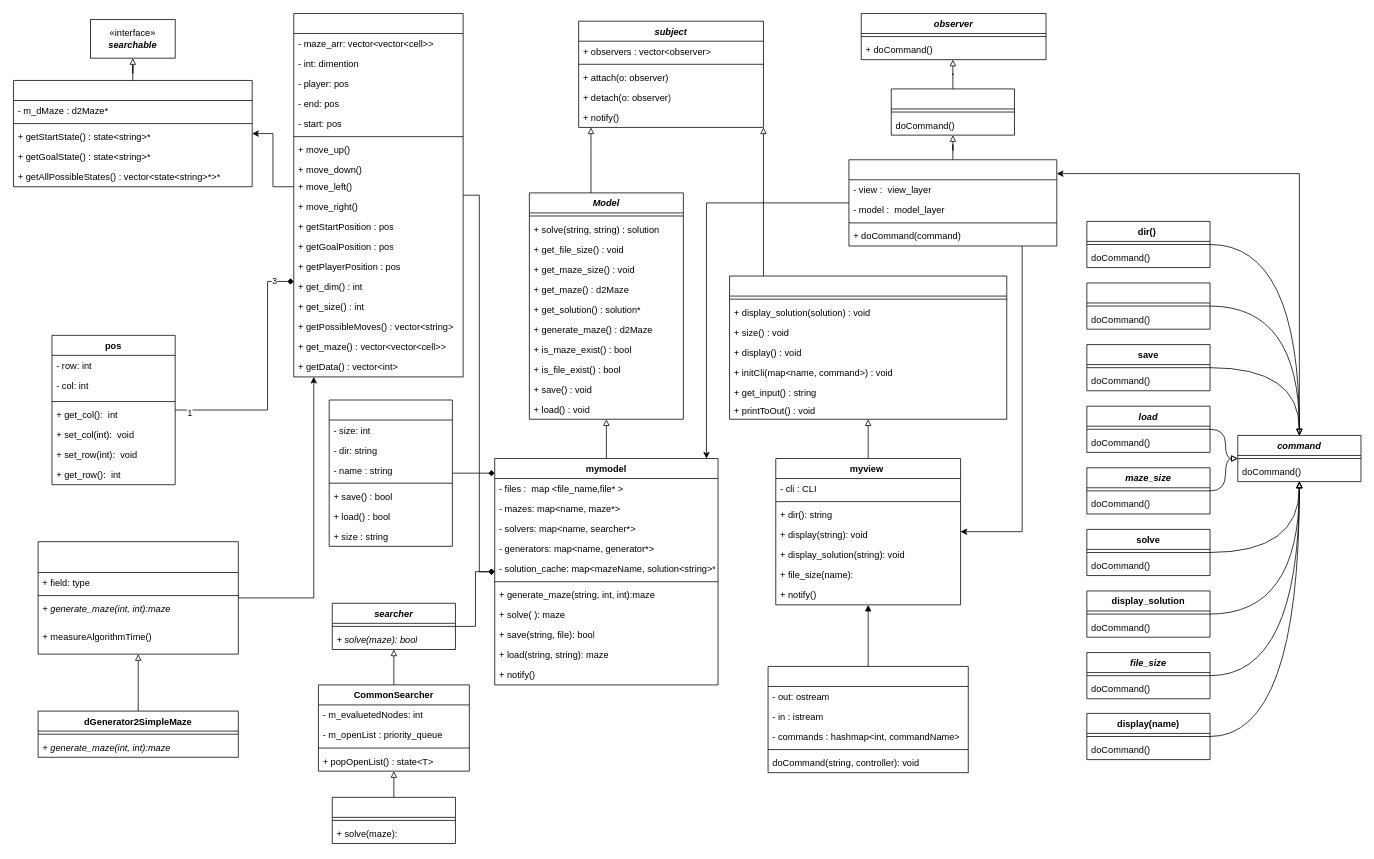
This 1374x859 diagram has some shape labels left out. Each missing label, with the box of its shape:
<<abstract>> Maze2dGenerator: (37, 541, 238, 654)
BFS: (331, 797, 455, 844)
CLI: (767, 666, 968, 773)
controller: (891, 88, 1014, 135)
d2Maze: (293, 13, 463, 377)
d2MazeSearchable: (13, 80, 252, 187)
file: (328, 399, 452, 546)
generate_maze: (1086, 282, 1210, 329)
mycontroller: (848, 159, 1057, 246)
view: (729, 275, 1007, 419)
